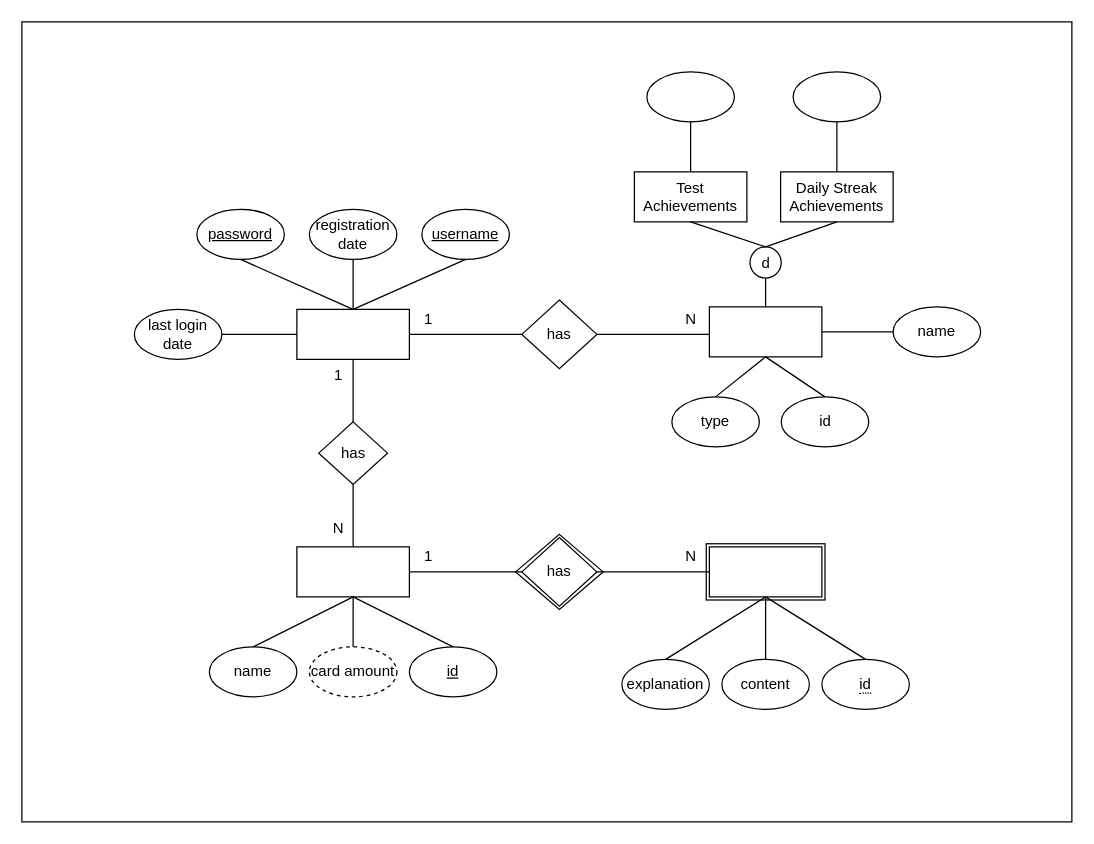
This 1094x844 diagram has some shape labels left out. The shapes that lost their labels are listed below. From the top down, each one's box as (x1, y1, x2, y2) in pixels, then its label:
(646, 71, 734, 122): passed test counter
(792, 71, 881, 122): streak counter
(296, 308, 409, 359): User
(708, 306, 822, 357): Achievements
(296, 546, 409, 597): Deck
(708, 546, 822, 597): Card
